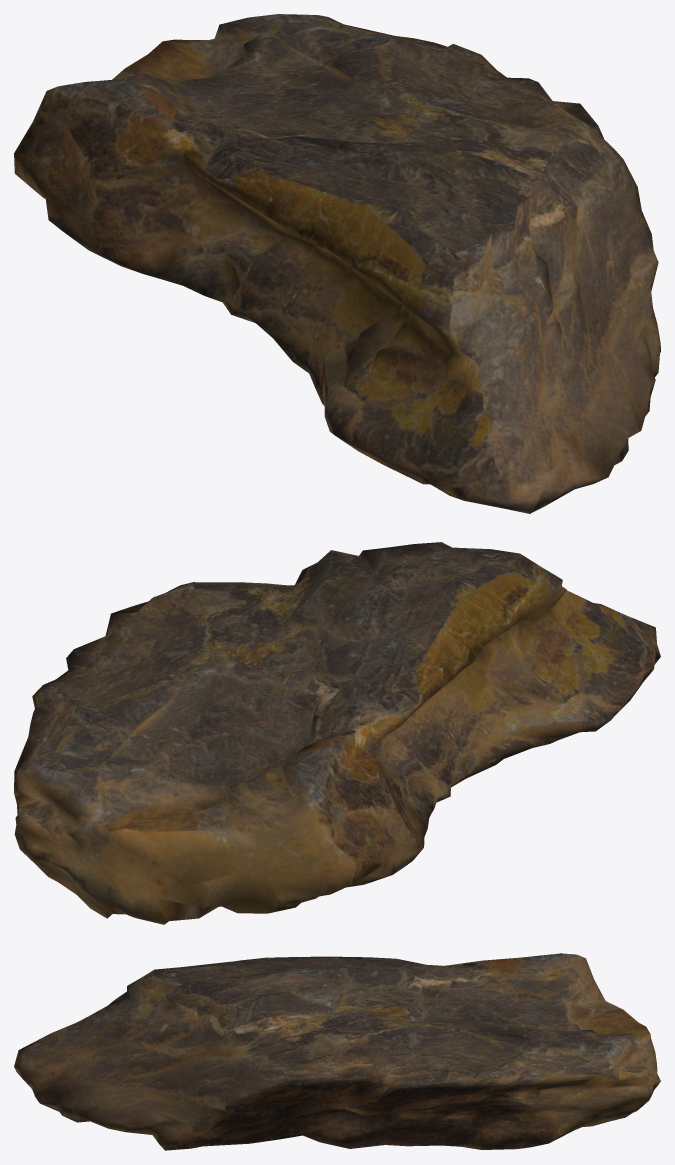
The model's file is rock_09.glb.
The picture shows the model from 3 angles, top to bottom: view 1: azimuth 30°, elevation 25°; view 2: azimuth 150°, elevation 25°; view 3: azimuth 270°, elevation 25°; orthographic projection. The views are drawn at different scales.
Visible parts, largest first — view 1: rock_09_LOD0; view 2: rock_09_LOD0; view 3: rock_09_LOD0.
Part boxes in pixels (bbox=[...]): rock_09_LOD0: bbox=[14, 14, 660, 513]; rock_09_LOD0: bbox=[14, 542, 660, 924]; rock_09_LOD0: bbox=[14, 953, 660, 1150].
Size of the model in its own units: 0.0738 by 0.0326 by 0.1449.
1 material, 1 textured.
